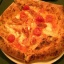pepperoni: (33, 13, 45, 39), (3, 32, 16, 44), (16, 9, 29, 20)
pizza: (1, 1, 64, 61)
